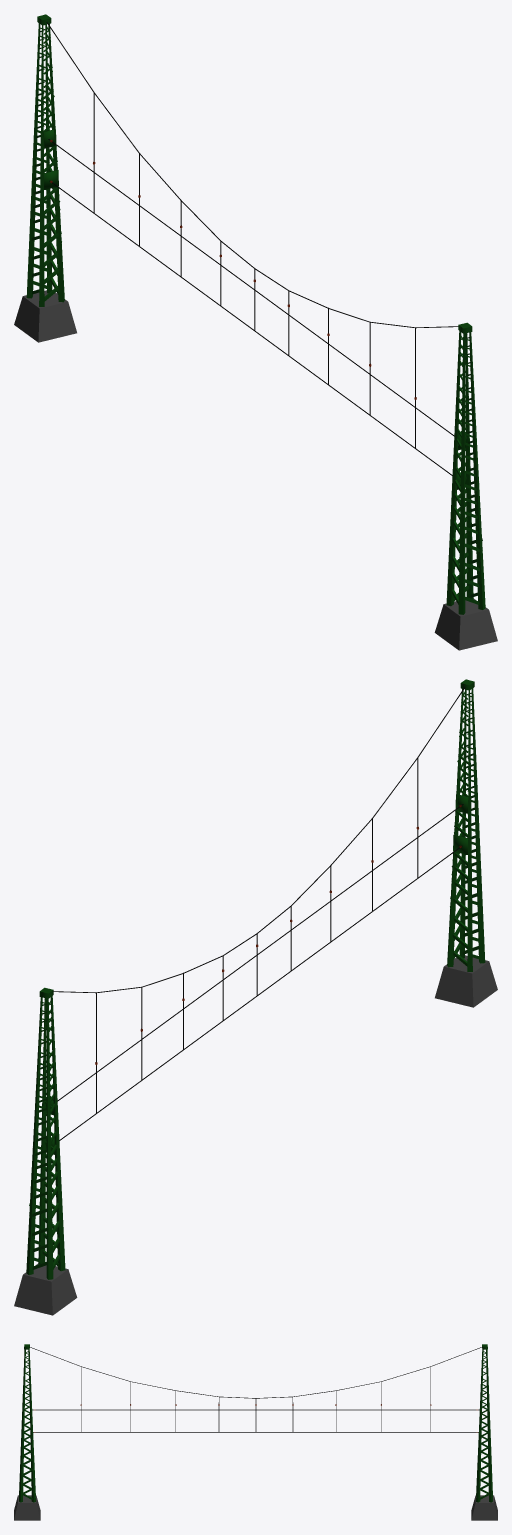
The model's file is Poles_1_28m.obj.
The picture shows the model from 3 angles, top to bottom: view 1: azimuth 30°, elevation 25°; view 2: azimuth 150°, elevation 25°; view 3: azimuth 270°, elevation 25°; orthographic projection. The views are drawn at different scales.
Parts seen in each view (by area): view 1: PoleBig28m_Cube_Cube.005; view 2: PoleBig28m_Cube_Cube.005; view 3: PoleBig28m_Cube_Cube.005.
Boxes of the visible parts, left/top/right/bottom form: PoleBig28m_Cube_Cube.005: left=14, top=14, right=497, bottom=650; PoleBig28m_Cube_Cube.005: left=14, top=679, right=497, bottom=1315; PoleBig28m_Cube_Cube.005: left=14, top=1344, right=497, bottom=1520.
Bounding box in the file's own units: 1.58 × 12.1 × 31.3.
